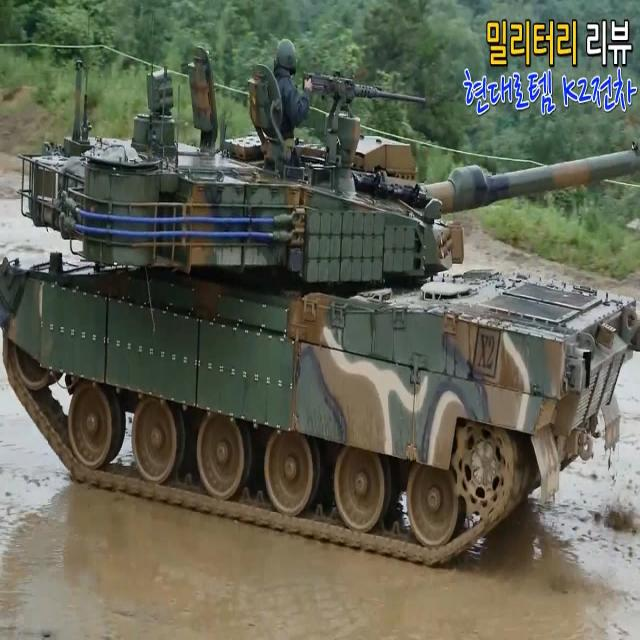korea tank: (0, 36, 638, 572)
